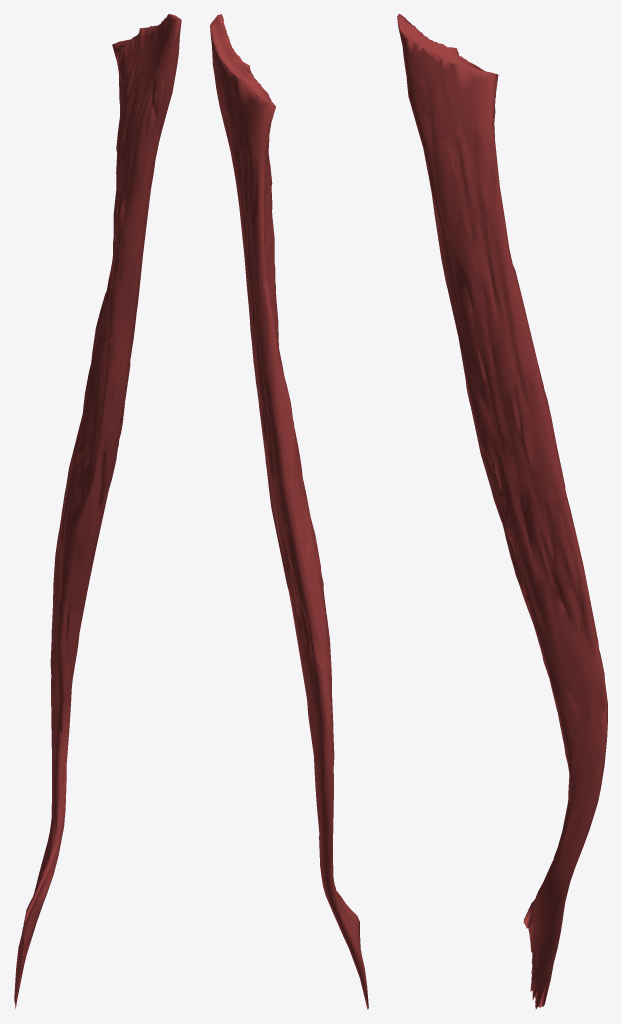
File: gracilis-muscle-r.glb
The picture shows the model from 3 angles, left to right: view 1: azimuth 30°, elevation 25°; view 2: azimuth 210°, elevation 25°; view 3: azimuth 270°, elevation 25°; orthographic projection. The views are drawn at different scales.
Visible parts, largest first — view 1: Gracilis muscle.r; view 2: Gracilis muscle.r; view 3: Gracilis muscle.r.
Part boxes in pixels (left/top/right/bottom): Gracilis muscle.r: left=14, top=14, right=181, bottom=1008; Gracilis muscle.r: left=210, top=14, right=368, bottom=1009; Gracilis muscle.r: left=397, top=14, right=607, bottom=1009.
Size of the model in its own units: 0.053 by 0.4936 by 0.0907.
